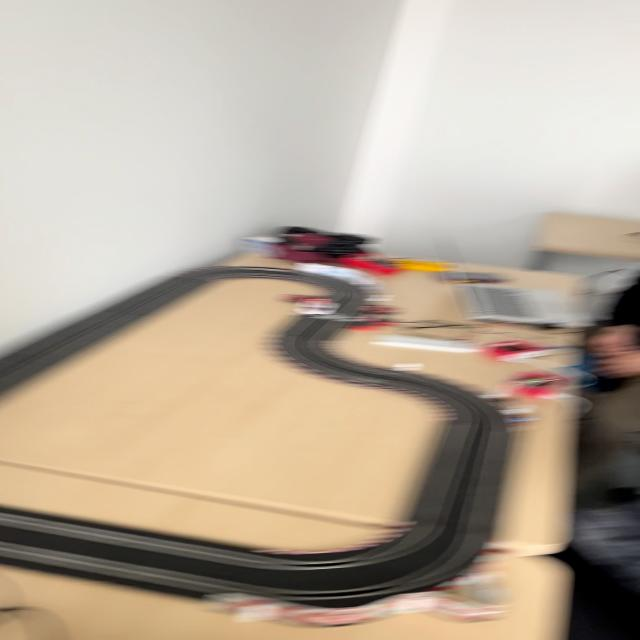mario: (292, 295, 343, 316)
